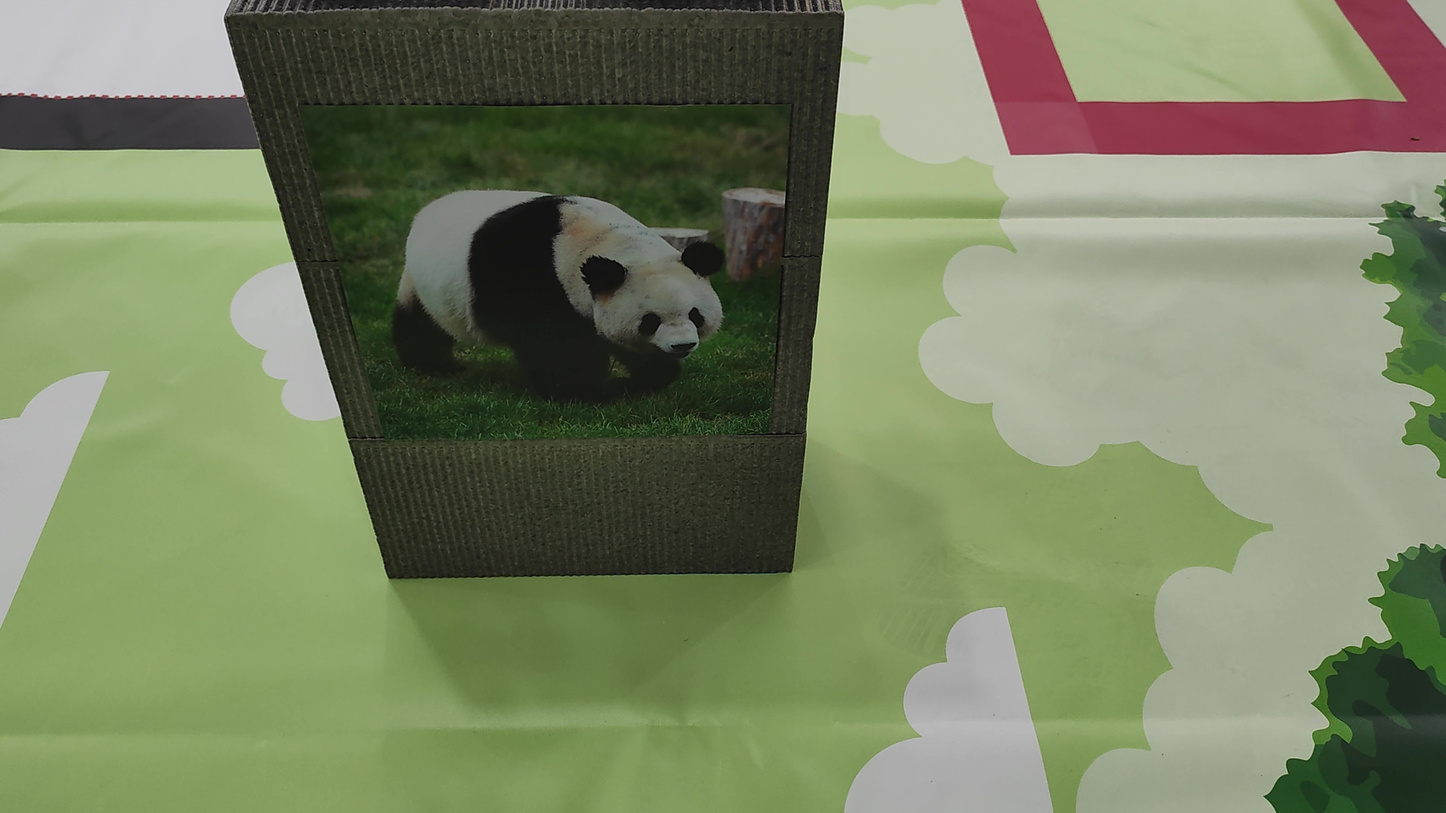panda: (359, 102, 755, 425)
